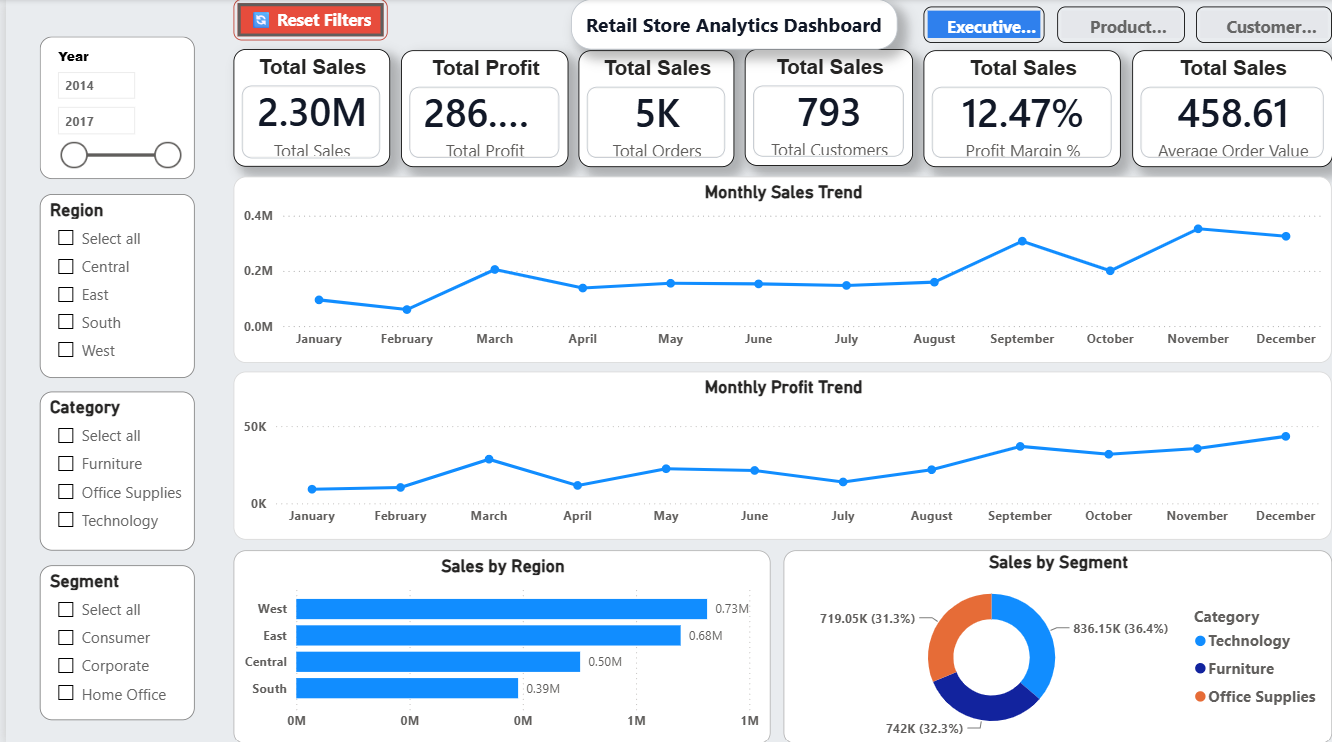

The dashboard page shown, as its layout file describes it:
{"tool":"powerbi","page":{"name":"Executive Overview","canvas":[1280,720],"ordinal":0},"visuals":[{"type":"cardVisual","title":"Total Sales","fields":{"Data":["Table.Total Sales"]},"box":[219.6,48.3,150.8,113.4],"z":0},{"type":"cardVisual","title":"Total Profit","fields":{"Data":["Table.Total Profit"]},"box":[380.7,48.9,161.4,112.5],"z":1000},{"type":"cardVisual","title":"Total Sales","fields":{"Data":["Table.Total Orders"]},"box":[552.4,48.9,150.4,112.5],"z":2000},{"type":"cardVisual","title":"Total Sales","fields":{"Data":["Table.Total Customers"]},"box":[712.5,48.8,162.5,112.5],"z":3000},{"type":"cardVisual","title":"Total Sales","fields":{"Data":["Table.Profit Margin %"]},"box":[885.8,48.9,190.8,112.5],"z":4000},{"type":"cardVisual","title":"Total Sales","fields":{"Data":["Table.Average Order Value"]},"box":[1086.8,48.9,193.2,112.5],"z":5000},{"type":"lineChart","title":"Monthly Sales Trend","fields":{"Category":["Date_Table.Month Name"],"Y":["Sum(Retail_Cleaned.Sales)"]},"box":[220.1,171.2,1060.2,179.8],"z":6000},{"type":"lineChart","title":"Monthly Profit Trend","fields":{"Category":["Date_Table.Month Name"],"Y":["Table.Total Profit"]},"box":[220.1,359.5,1060.2,162.6],"z":7000},{"type":"clusteredBarChart","title":"Sales by Region","fields":{"Y":["Table.Total Sales"],"Category":["Retail_Cleaned.Region"]},"box":[220.1,531.9,518.5,188.3],"z":8000},{"type":"donutChart","title":"Sales by Segment","fields":{"Category":["Retail_Cleaned.Category"],"Y":["Table.Total Sales"]},"box":[750.8,531.9,529.5,188.3],"z":9000},{"type":"slicer","fields":{"Values":["Retail_Cleaned.Year"]},"box":[32.6,36.2,149.6,137.5],"z":10000},{"type":"slicer","title":"Region","fields":{"Values":["Retail_Cleaned.Region"]},"box":[32.6,187.8,149.6,177.3],"z":11000},{"type":"slicer","title":"Category","fields":{"Values":["Retail_Cleaned.Category"]},"box":[32.6,379.2,149.6,153.2],"z":12000},{"type":"slicer","title":"Segment","fields":{"Values":["Retail_Cleaned.Segment"]},"box":[32.6,546.5,149.6,149.6],"z":13000},{"type":"textbox","box":[545,0,315,48.8],"z":14000},{"type":"actionButton","box":[885.5,7.2,117,35],"z":15000},{"type":"actionButton","box":[1014.6,7.2,123.1,35],"z":16000},{"type":"actionButton","box":[1148.5,7.2,131.5,35],"z":17000},{"type":"actionButton","box":[219.8,0,148.9,40.3],"z":18000}]}

Visuals, with their boxes in screenshot pixels (x1, y1, x2, y2), scaled from the page's 1280x720 canvas onto the 1332x742 screenshot:
"Total Sales" cardVisual: 229,50,385,167
"Total Profit" cardVisual: 396,50,564,166
"Total Sales" cardVisual: 575,50,731,166
"Total Sales" cardVisual: 741,50,911,166
"Total Sales" cardVisual: 922,50,1120,166
"Total Sales" cardVisual: 1131,50,1331,166
"Monthly Sales Trend" lineChart: 229,176,1331,362
"Monthly Profit Trend" lineChart: 229,370,1331,538
"Sales by Region" clusteredBarChart: 229,548,769,741
"Sales by Segment" donutChart: 781,548,1331,741
slicer - Retail_Cleaned.Year: 34,37,190,179
"Region" slicer: 34,194,190,376
"Category" slicer: 34,391,190,549
"Segment" slicer: 34,563,190,717
textbox: 567,0,895,50
actionButton: 921,7,1043,43
actionButton: 1056,7,1184,43
actionButton: 1195,7,1331,43
actionButton: 229,0,384,42
